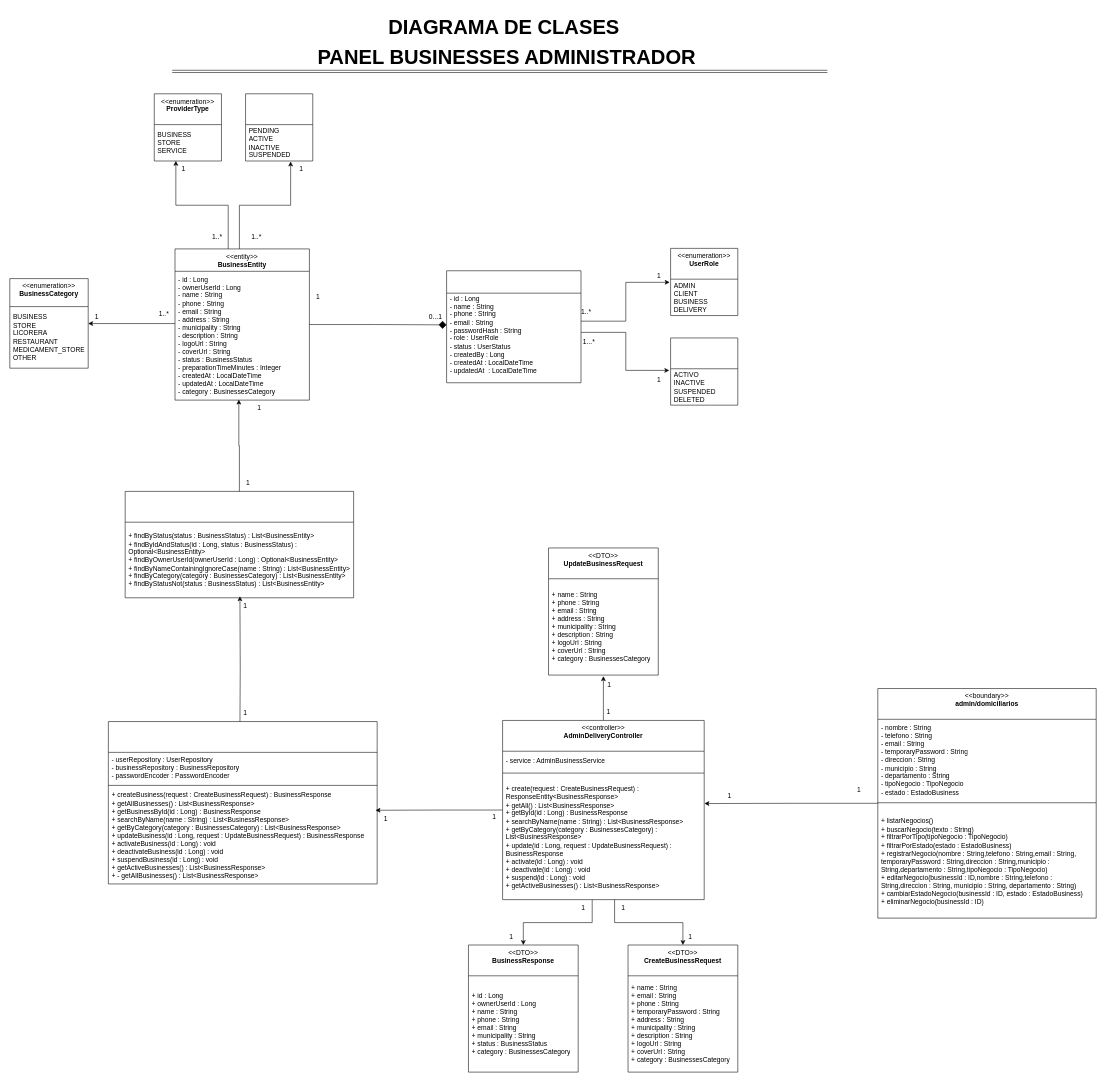
This 1106x1082 diagram has some shape labels left out. Here are the shapes that lost their labels. From the top down, the box of each, then its label:
(245, 93, 313, 161): <<enumeration>> BusinessStatus
(446, 270, 581, 383): <<entity>> UserEntity
(670, 337, 738, 405): <<enumeration>> UserStatus
(125, 491, 354, 598): <<repository>> DeliveryProfileRepository
(108, 721, 377, 884): <<sevice>> AdminDeliveryService
